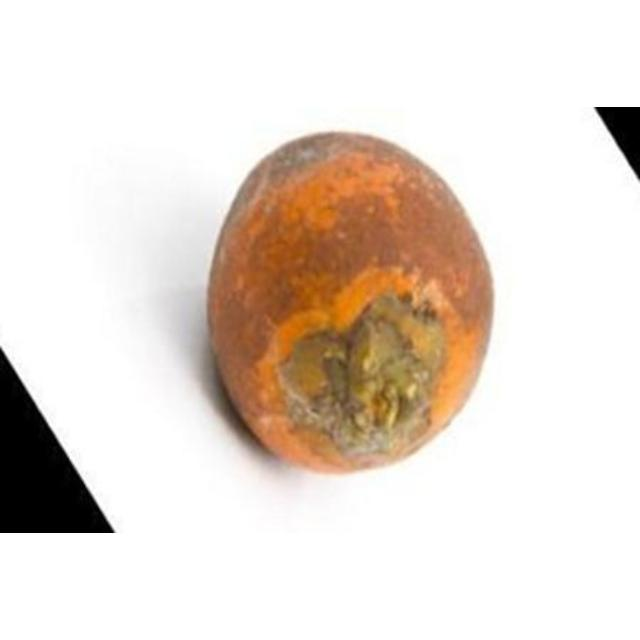good: (206, 131, 496, 478)
